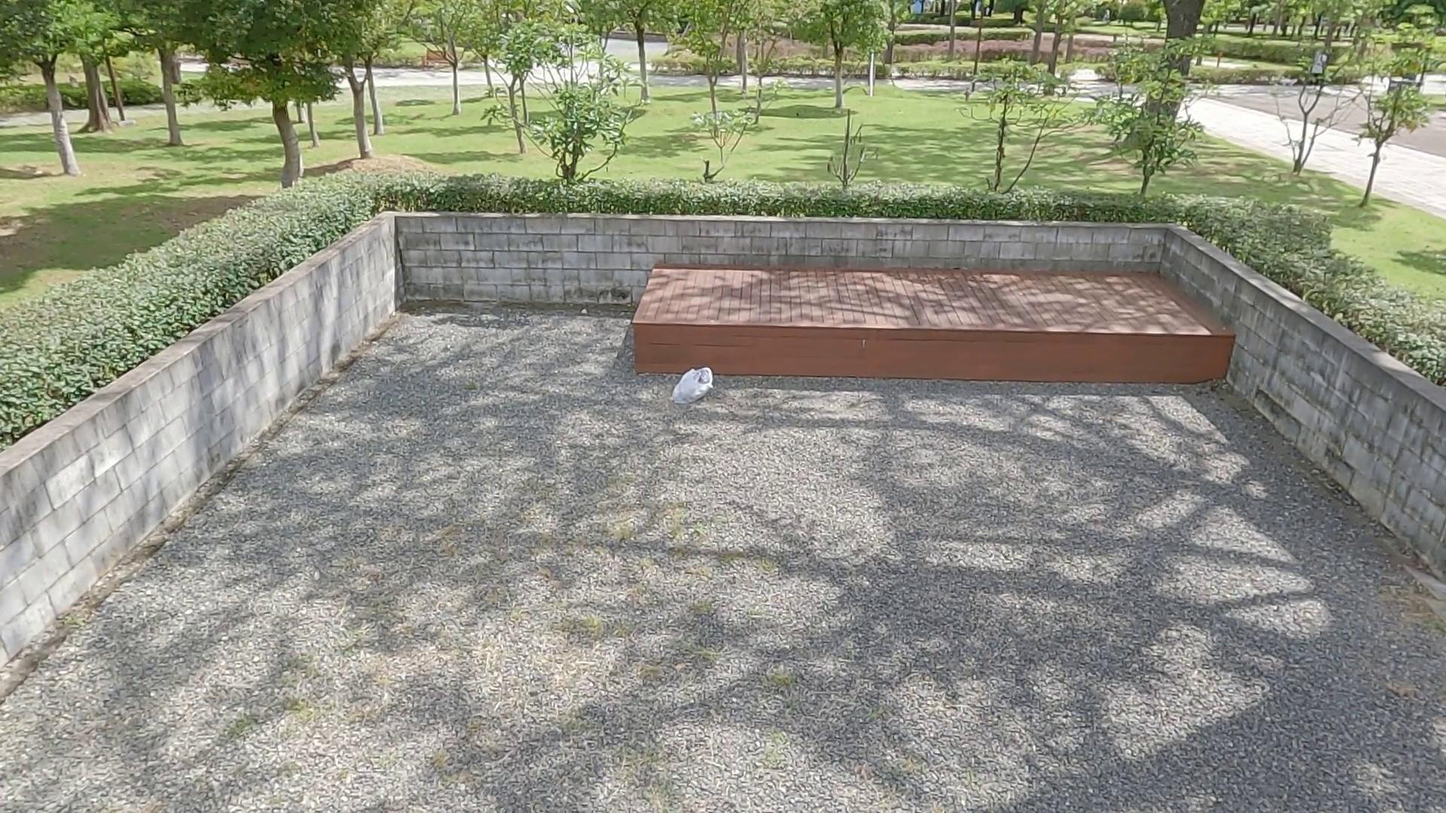trash: (672, 363, 718, 412)
